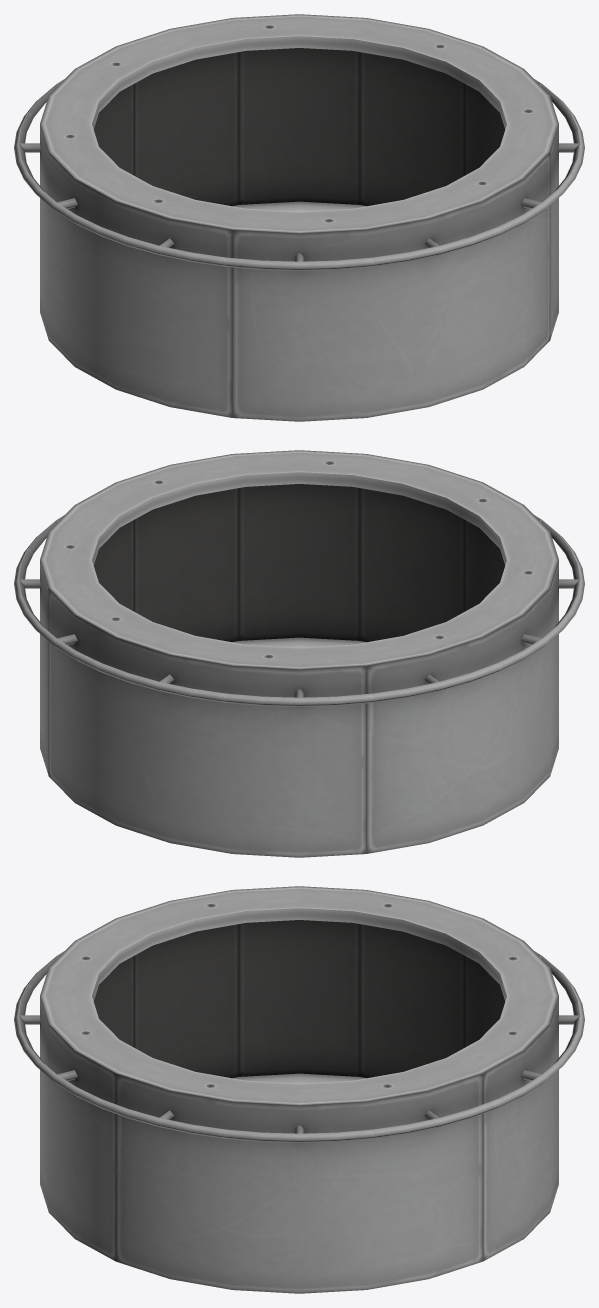
File: Hadar_Fuselage_1_1.obj
The picture shows the model from 3 angles, top to bottom: view 1: azimuth 30°, elevation 25°; view 2: azimuth 150°, elevation 25°; view 3: azimuth 270°, elevation 25°; orthographic projection.
Visible parts, largest first — view 1: Hadar_Fuselage_1_1; view 2: Hadar_Fuselage_1_1; view 3: Hadar_Fuselage_1_1.
Part boxes in pixels (x1,y1,x2,y2): Hadar_Fuselage_1_1: (14,14,584,421); Hadar_Fuselage_1_1: (14,450,584,857); Hadar_Fuselage_1_1: (14,886,584,1293).
Size of the model in its own units: 1.38 by 0.5 by 1.38.
